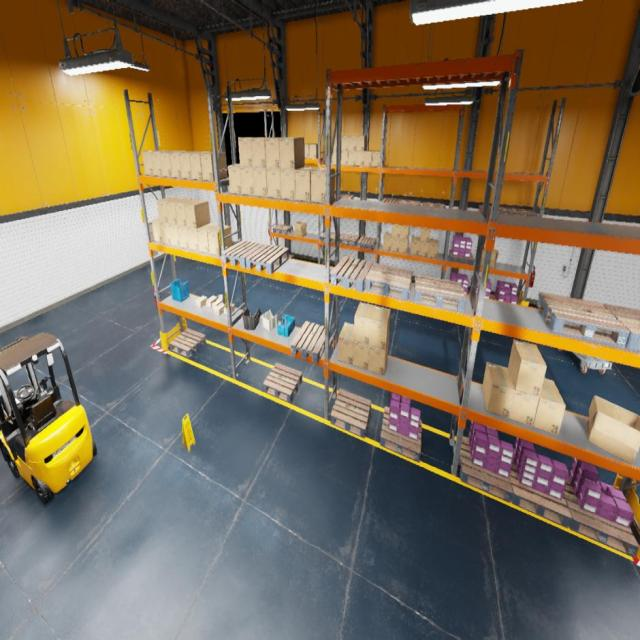box: (587, 396, 640, 465), (508, 339, 547, 397), (533, 378, 566, 435), (482, 362, 515, 418), (508, 368, 539, 426), (370, 306, 391, 350), (354, 302, 375, 345), (310, 167, 334, 203), (368, 335, 389, 376), (295, 166, 318, 202), (279, 138, 304, 170), (200, 153, 228, 181), (184, 200, 210, 228), (208, 226, 232, 256), (338, 323, 354, 365), (196, 223, 218, 253), (156, 196, 180, 223), (175, 199, 198, 227), (170, 151, 193, 178), (150, 150, 173, 177), (165, 198, 188, 225), (190, 152, 212, 180), (159, 150, 180, 177), (179, 152, 200, 178), (142, 150, 162, 176), (353, 340, 369, 370), (252, 167, 268, 197), (266, 168, 281, 198), (280, 169, 295, 199), (265, 138, 280, 168), (251, 138, 266, 168), (238, 137, 253, 167), (228, 163, 242, 194), (480, 246, 498, 268), (240, 167, 254, 195), (187, 228, 199, 252), (152, 218, 163, 243), (178, 226, 189, 250), (169, 224, 180, 246), (160, 223, 171, 245), (428, 238, 438, 258), (410, 237, 420, 256), (382, 232, 392, 251), (364, 150, 374, 167), (295, 222, 307, 236), (399, 236, 408, 254), (419, 240, 429, 256), (372, 150, 381, 167), (212, 295, 222, 310), (420, 227, 430, 242), (356, 136, 366, 150), (214, 303, 225, 315), (400, 225, 409, 239), (392, 224, 401, 238), (309, 144, 318, 158), (196, 296, 207, 307), (348, 151, 356, 166), (356, 151, 364, 166), (391, 238, 399, 252), (304, 144, 312, 158), (348, 136, 356, 150), (341, 136, 349, 150), (341, 150, 348, 166), (224, 304, 235, 314), (206, 296, 216, 307), (333, 136, 336, 151), (333, 150, 336, 165), (331, 151, 333, 164)
forklift: (0, 332, 97, 504)
pallets: (564, 478, 639, 558), (536, 292, 630, 347), (509, 461, 572, 528), (459, 437, 513, 502), (380, 407, 421, 462), (414, 275, 466, 313), (331, 389, 371, 438), (365, 263, 413, 301), (603, 304, 640, 351), (291, 321, 330, 363), (263, 363, 302, 403), (330, 256, 373, 292), (246, 244, 288, 274), (221, 240, 264, 268), (170, 328, 207, 358), (449, 249, 474, 265), (504, 207, 538, 216), (358, 236, 377, 251), (321, 231, 341, 244), (578, 353, 610, 361), (478, 205, 509, 213), (340, 233, 359, 246), (272, 224, 293, 234), (467, 290, 490, 299), (422, 202, 445, 208), (399, 199, 421, 205), (381, 197, 401, 203), (335, 194, 354, 199), (282, 254, 294, 259), (491, 295, 496, 300), (334, 193, 336, 197)
